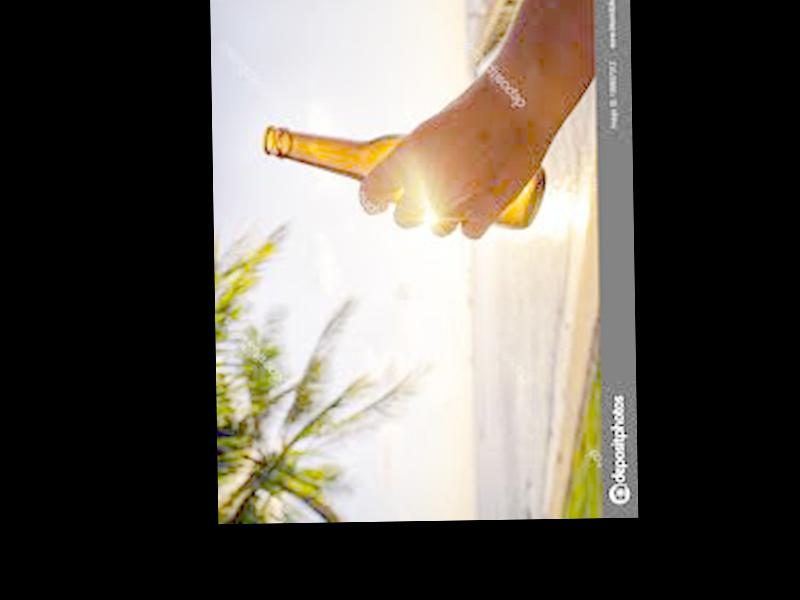Beer: (262, 118, 548, 231)
